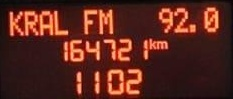-: (187, 22, 196, 33)
0: (105, 66, 124, 97), (202, 5, 220, 36)
1: (73, 67, 84, 96), (92, 67, 101, 96), (61, 37, 68, 64), (141, 37, 148, 62)
2: (125, 66, 142, 95), (117, 36, 134, 62), (173, 5, 188, 34)
4: (84, 38, 100, 60)
6: (69, 37, 84, 62)
7: (102, 37, 116, 61)
9: (156, 4, 173, 34)
X: (98, 7, 116, 34), (7, 9, 23, 36), (23, 9, 38, 37), (53, 9, 68, 35), (81, 7, 95, 34), (39, 8, 52, 37), (155, 38, 168, 50), (148, 36, 156, 50)
